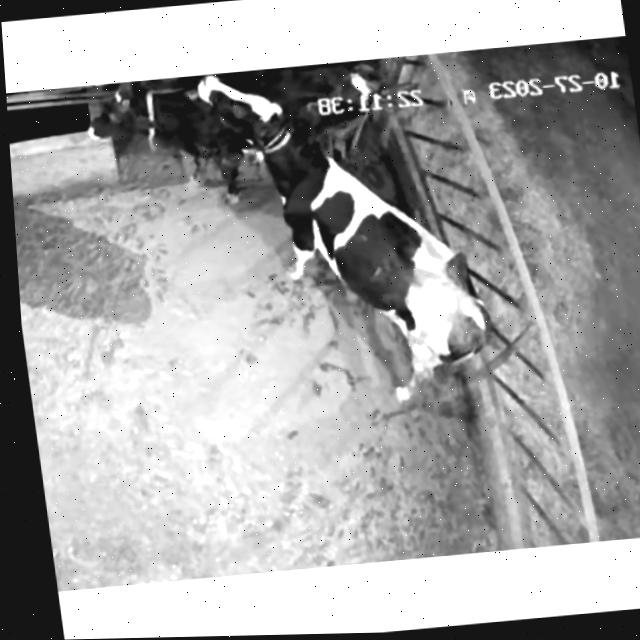propping: (176, 62, 341, 204)
